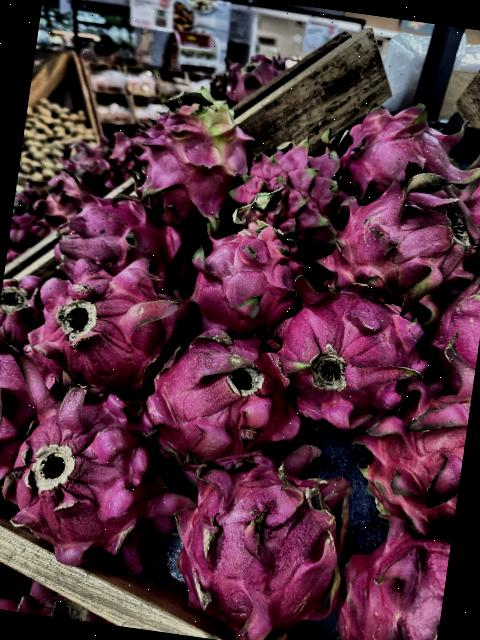buah-naga-belum-matang: (134, 94, 252, 224)
buah-naga-matang: (0, 375, 181, 582), (155, 449, 350, 640), (134, 324, 312, 480), (270, 274, 432, 442), (348, 368, 474, 532), (33, 253, 183, 386), (308, 166, 471, 288), (334, 504, 454, 640), (47, 185, 194, 290), (220, 130, 348, 250), (179, 215, 310, 332), (338, 96, 466, 194), (0, 339, 44, 490), (427, 276, 480, 381), (0, 271, 50, 362)
